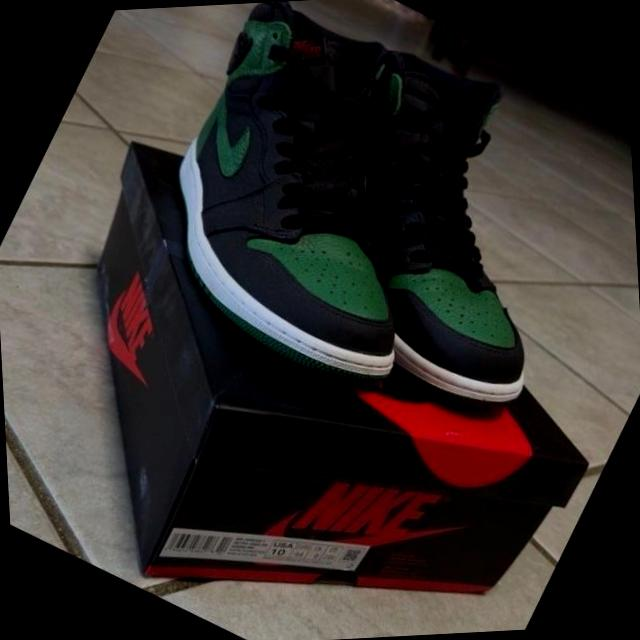nike_original_jordan: (208, 0, 640, 445), (94, 0, 541, 420)
